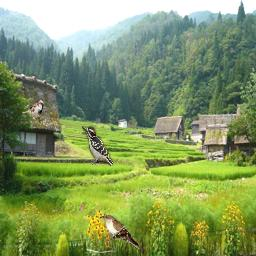Cuckoo: (100, 215, 140, 249)
Sparrow: (22, 100, 44, 122)
Woodpecker: (82, 126, 113, 166)
